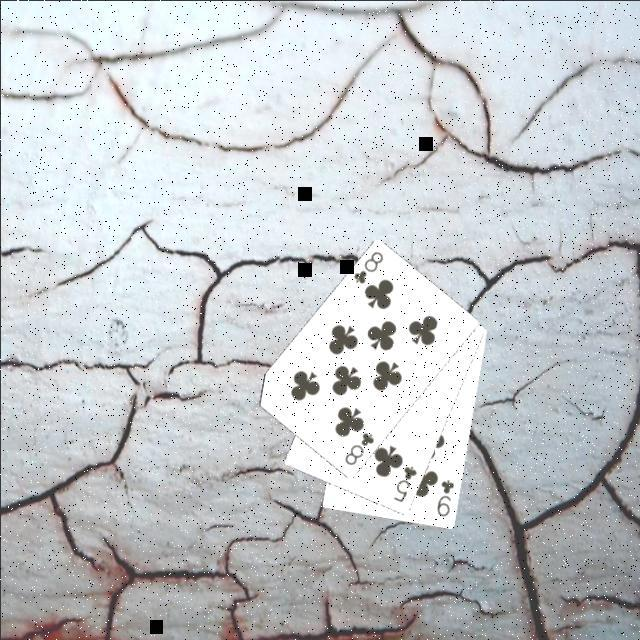5C: (389, 462, 419, 504)
8C: (339, 428, 375, 467), (348, 247, 384, 286)
9C: (432, 475, 456, 519)
